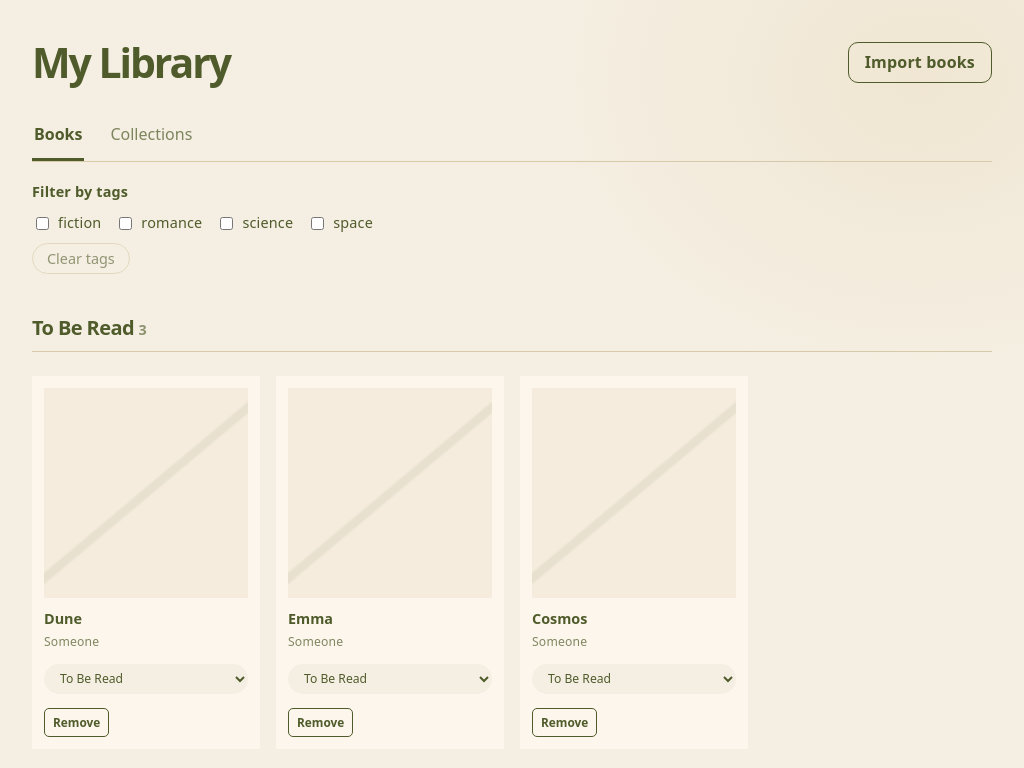
it: PersonalLibraryPage › reconciles shared collection counts when overlapping deletions finish out of order
The width and height of the screenshot is (1024, 768).
Expected: the button "Dune" is shown, [44,610,82,629]
Click the button with aria-label "Remove Dune from my library" at (77, 722), box [44,708,109,737]
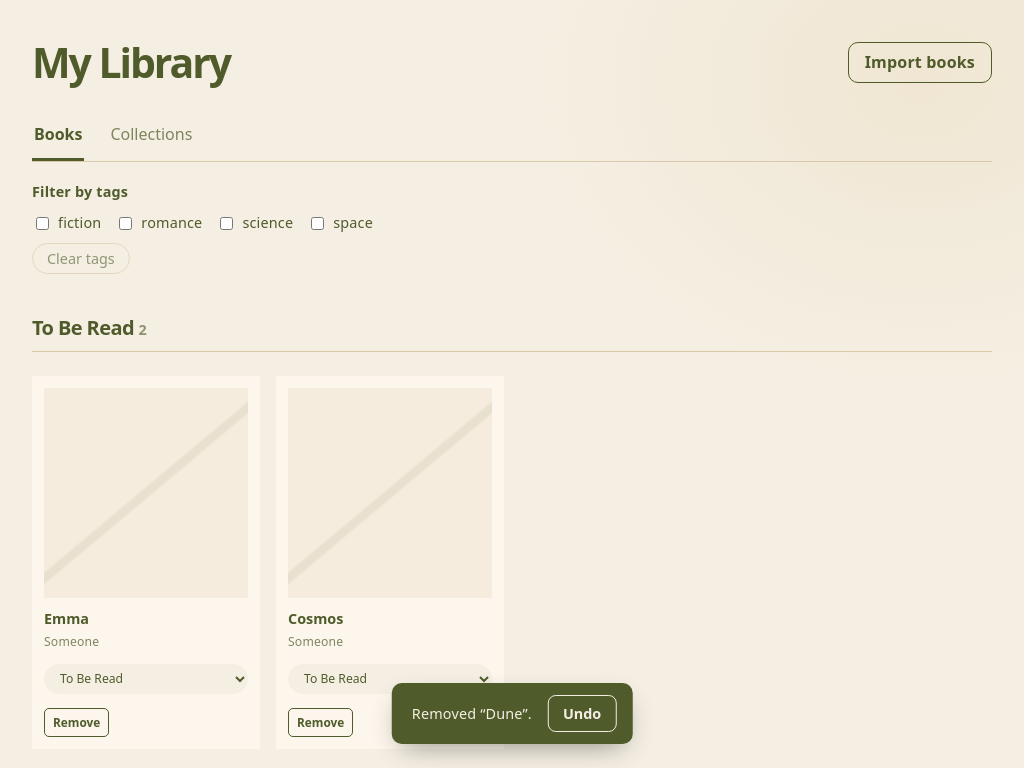
Click the button with aria-label "Remove Emma from my library" at (77, 722), box [44,708,109,737]
Wait 6000 ms
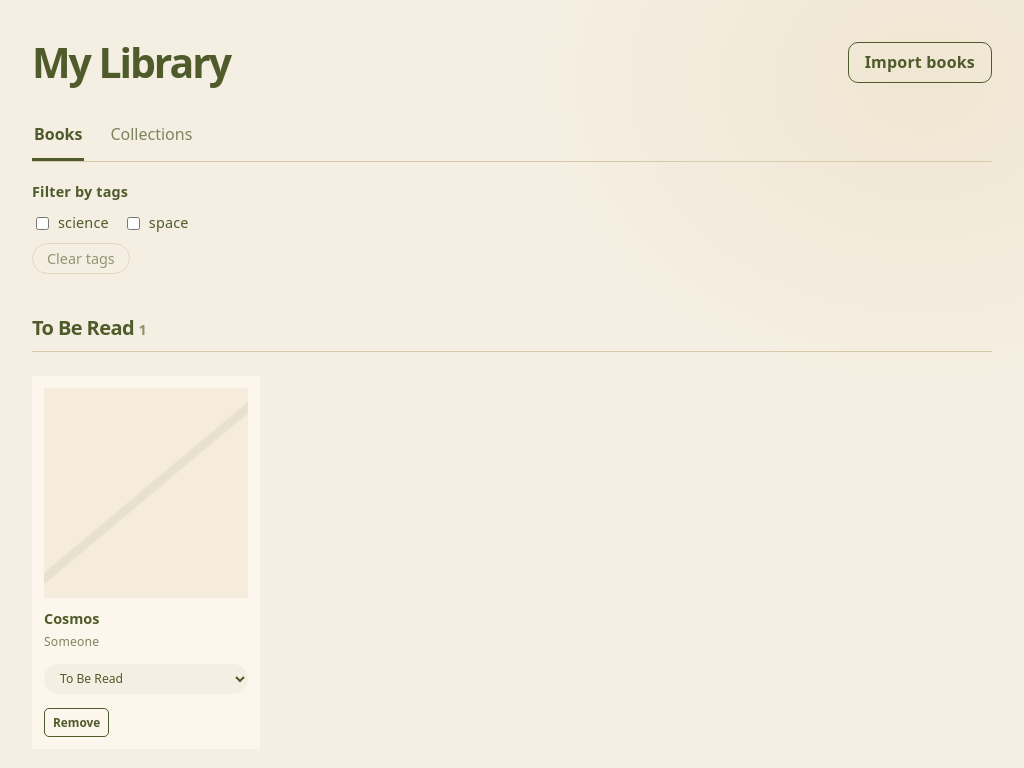
Now the button "Undo" is gone
